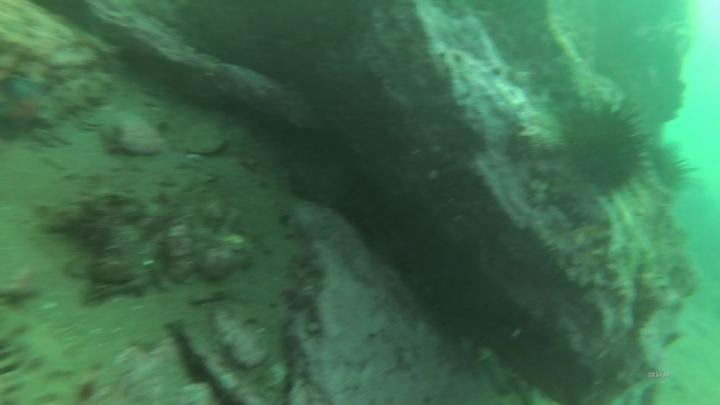echinus: (556, 85, 650, 199), (653, 138, 706, 200)
starfish: (3, 73, 58, 128)
